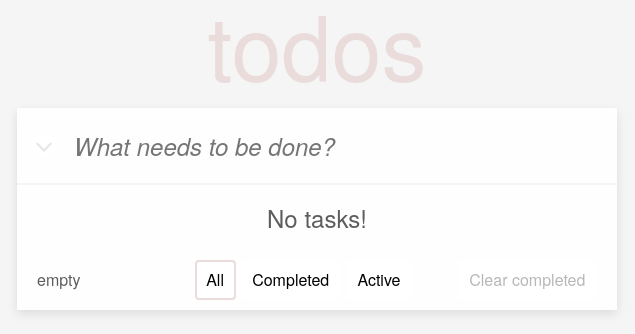
Test case: Todo App functionality › Adding and Deleting Todos › adds a new todo
Type "Test a Todo" into the field with placeholder "What needs to be done?".
click(334, 146); type("Test a Todo")  # box 66,123 -> 602,168
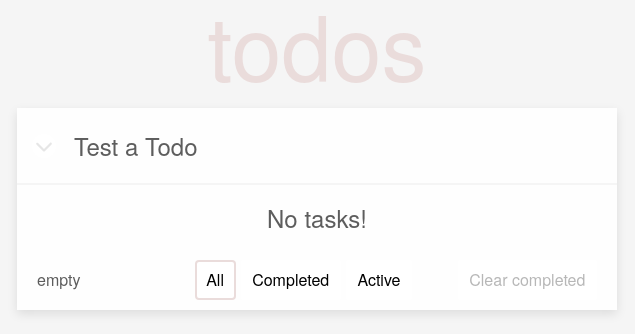
Click the button named "add todo".
click(44, 146)  # box 32,134 -> 56,158
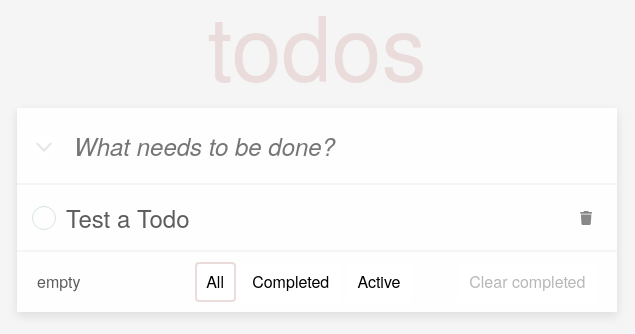
Expected: the text "Test a Todo" is shown, 66,200 -> 190,235
